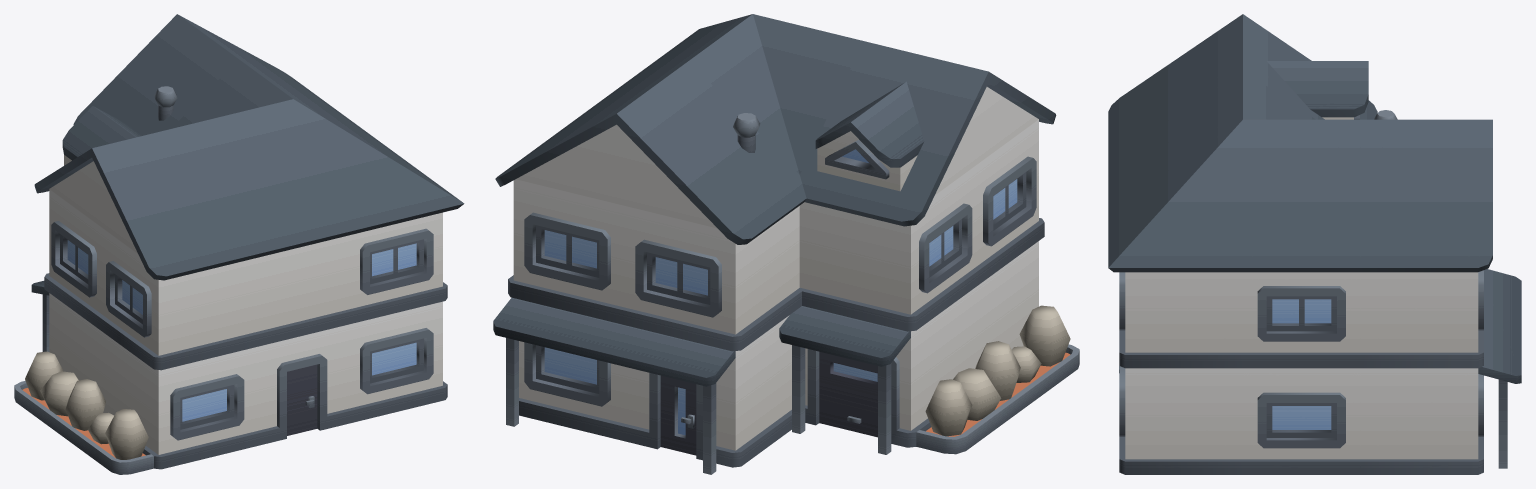
Rendered from sub-building-type-f.glb.
3 views of the same model, side by side, from view 1: azimuth 30°, elevation 25°; view 2: azimuth 150°, elevation 25°; view 3: azimuth 270°, elevation 25° (orthographic). The views are drawn at different scales.
Visible parts, largest first — view 1: building-type-f; view 2: building-type-f; view 3: building-type-f.
Boxes of the visible parts, x1,y1,x2,y2 form: building-type-f: (14,14,464,474); building-type-f: (493,14,1079,474); building-type-f: (1108,14,1521,474).
Size of the model in its own units: 1.43 by 1.14 by 1.41.
1 material, 1 textured.
